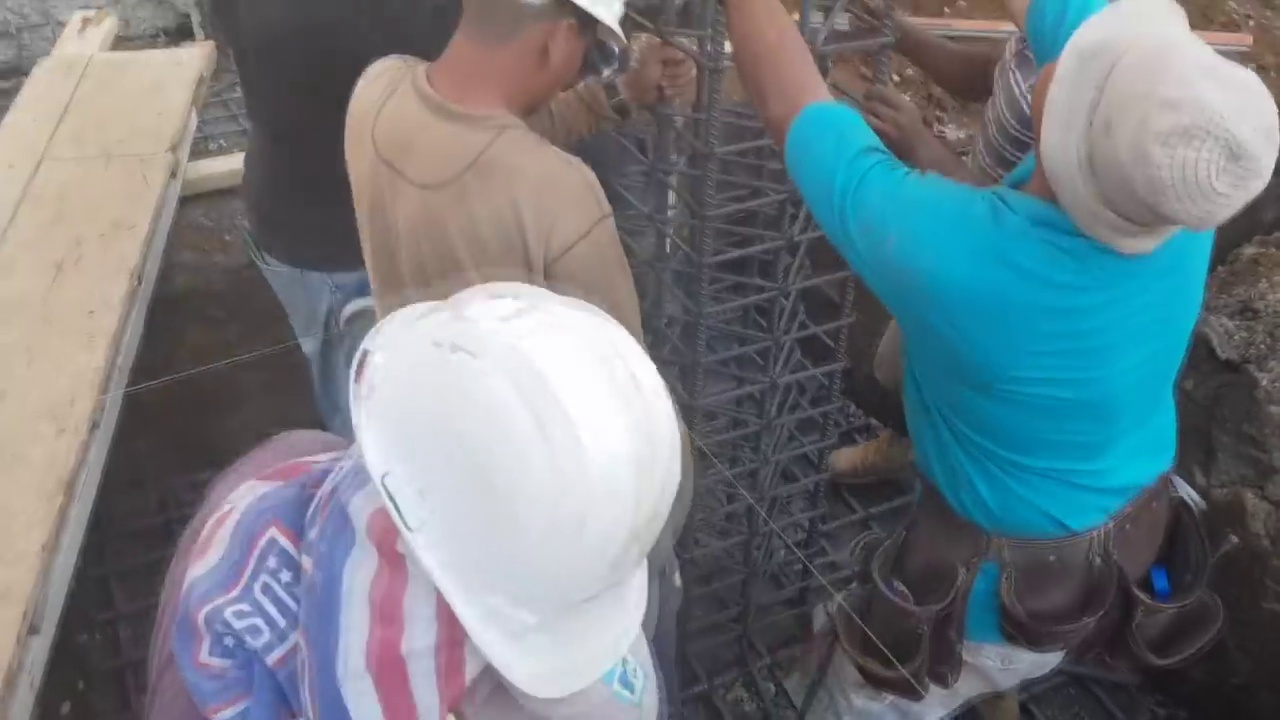helmet: (340, 294, 682, 699)
helmet-off: (1059, 1, 1274, 248), (409, 0, 627, 129)
helmet-on: (193, 285, 681, 710)
person: (768, 0, 1280, 720), (152, 298, 701, 720), (348, 0, 687, 336), (210, 0, 396, 424)
